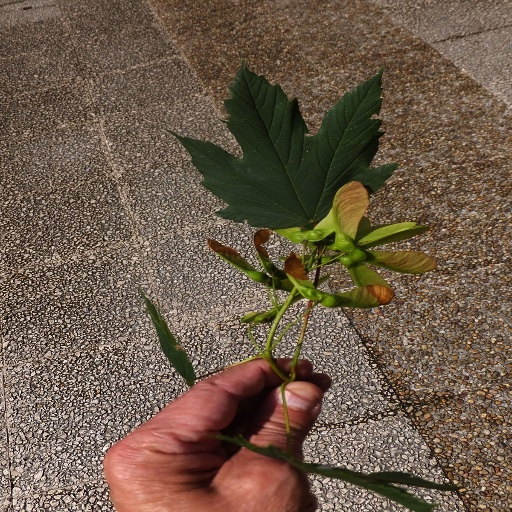hand: (95, 349, 357, 506)
